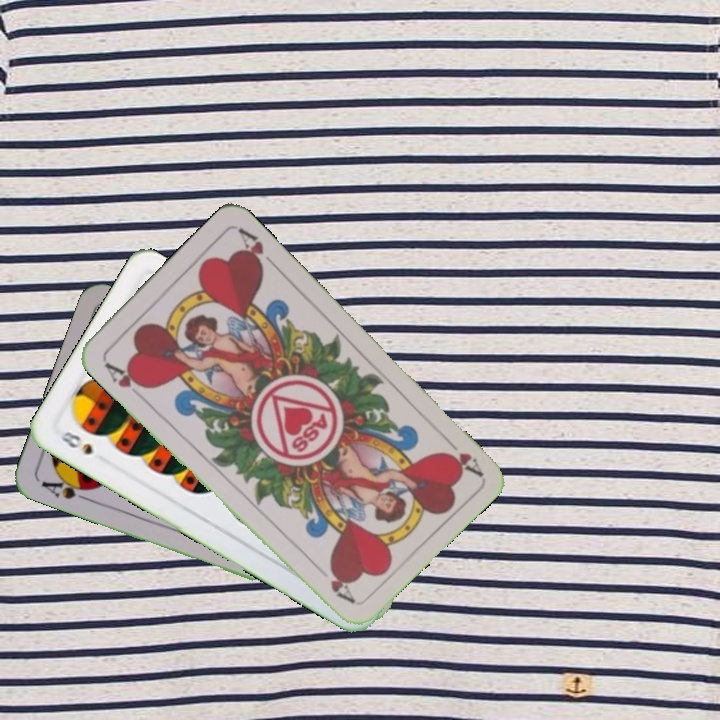HA: (100, 357, 151, 402), (438, 431, 484, 479)
S8: (56, 427, 96, 458)
SA: (37, 471, 97, 505)
